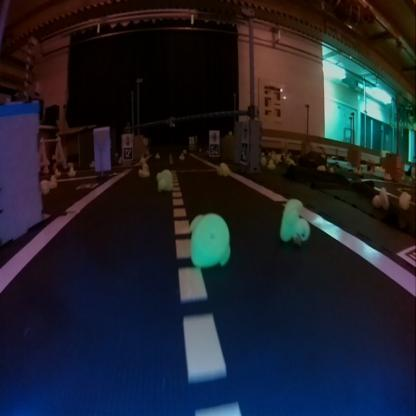Duckie: (188, 213, 230, 266), (279, 193, 310, 249), (157, 169, 173, 191), (371, 188, 388, 208), (216, 162, 229, 177), (138, 164, 149, 176), (68, 166, 76, 176), (49, 176, 57, 186)
